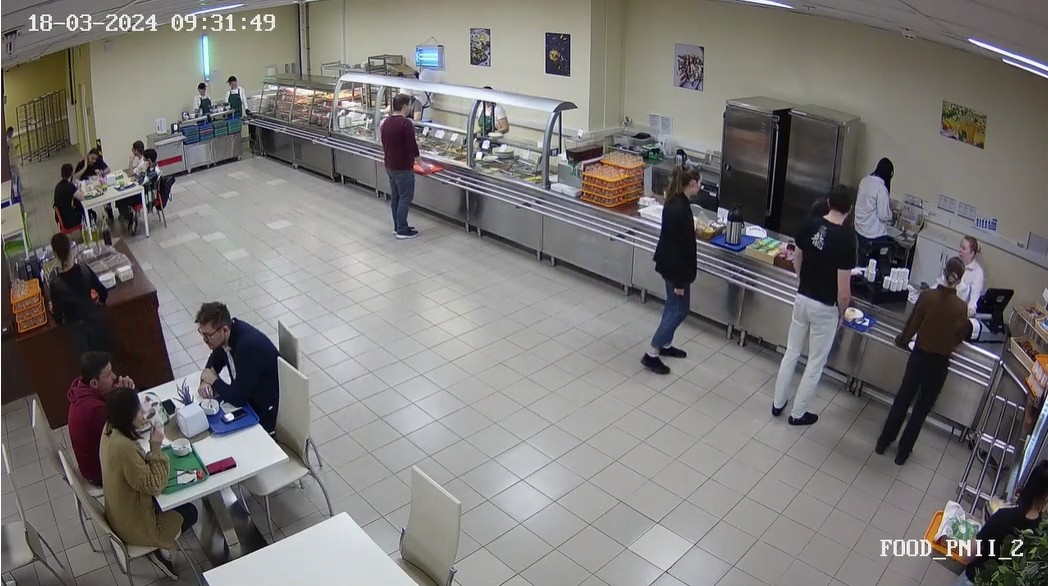Na_Kasse: (709, 179, 888, 422), (808, 250, 994, 466)
Ne_v_Ocheredi: (25, 230, 147, 348), (0, 117, 26, 194)
Personal: (854, 150, 906, 263), (471, 81, 514, 140), (960, 228, 989, 307), (179, 72, 216, 129), (221, 69, 253, 125)
Vybiraet: (638, 155, 708, 384), (373, 90, 433, 243)
Za_Stolom: (188, 297, 290, 441), (96, 388, 172, 547), (44, 345, 121, 495), (45, 162, 86, 241), (137, 152, 172, 202), (118, 131, 148, 183), (71, 139, 107, 180)
